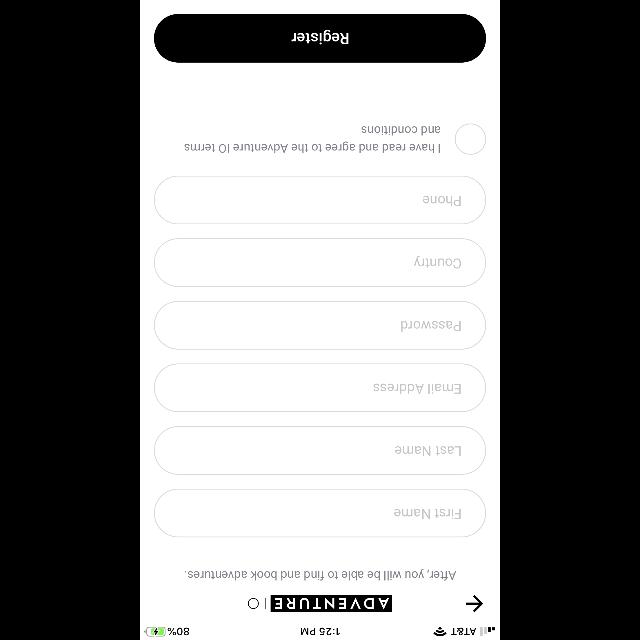checkbox: (454, 124, 486, 154)
icon: (466, 594, 482, 612)
image: (248, 594, 392, 612)
input: (154, 489, 486, 537), (154, 426, 486, 474), (154, 364, 486, 412), (154, 301, 486, 349), (154, 238, 486, 286), (154, 176, 486, 224)
text: (184, 126, 440, 154), (186, 568, 457, 580), (374, 384, 461, 394), (394, 508, 460, 520), (395, 446, 461, 456), (401, 321, 461, 332), (414, 256, 461, 268), (424, 196, 461, 207)
textbutton: (154, 13, 486, 62)
uppertaskbar: (140, 626, 500, 640)
